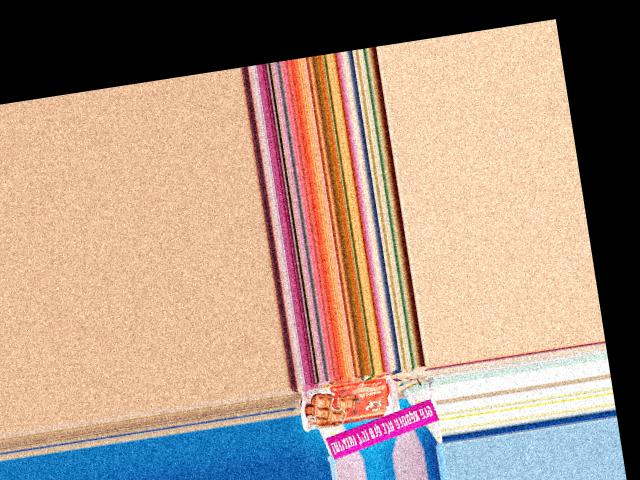chocolate: (294, 373, 404, 434)
